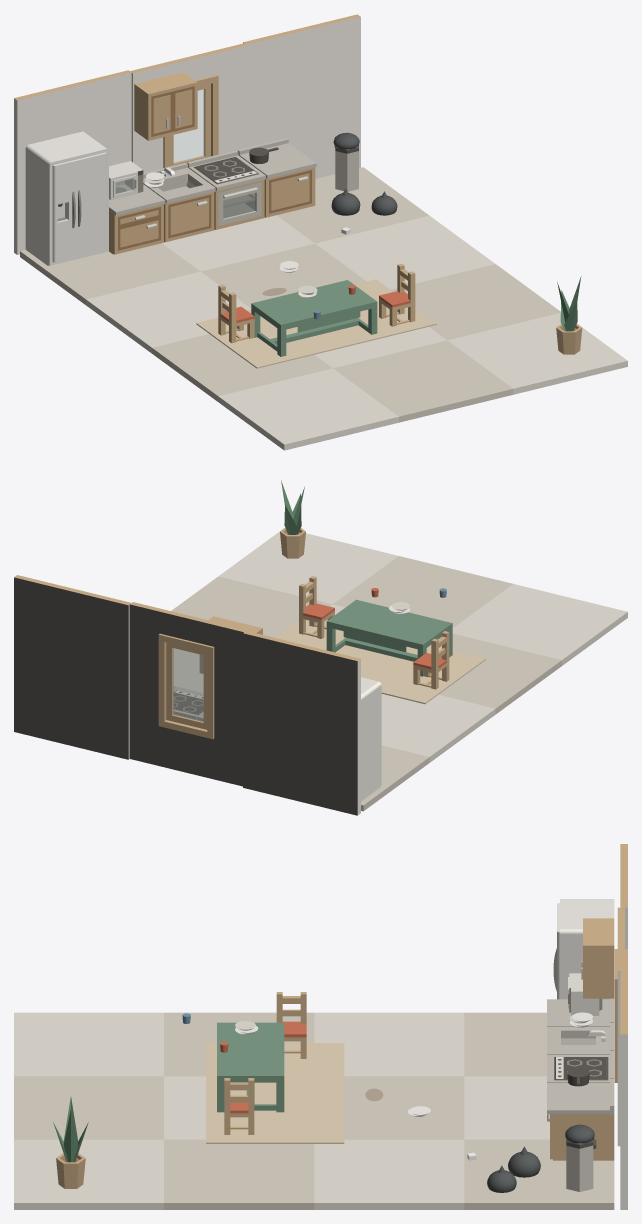
Rendered from room-kitchen.glb.
3 renders of one model, top to bottom at view 1: azimuth 30°, elevation 25°; view 2: azimuth 150°, elevation 25°; view 3: azimuth 270°, elevation 25°, orthographic. The views are drawn at different scales.
Parts seen in each view (by area): view 1: floorFull(Clone) (×12), Mesh_wall_1 (×2), Mesh_wallWindow_2, kitchenFridgeLarge(Clone), Mesh_rugRectangle, Mesh_doorRight_1, Mesh_door (×3), Mesh_tableCloth, Mesh_tableCloth_1, Mesh_doorLeft, Mesh_chairCushion (×2), kitchenCabinetUpperDouble(Clone) (+21 smaller); view 2: floorFull(Clone) (×8), Mesh_wall_2 (×2), Mesh_wallWindow_1, Mesh_rugRectangle, Mesh_wallWindow, Mesh_tableCloth_1, Mesh_tableCloth, kitchenFridgeLarge(Clone), Mesh_chairCushion (×2), Mesh_window, Mesh_window_1, Mesh_pottedPlant (+4 smaller); view 3: floorFull(Clone) (×12), Mesh_rugRectangle, kitchenCabinetUpperDouble(Clone), kitchenFridgeLarge(Clone), Mesh_tableCloth, Mesh_tableCloth_1, Mesh_chairCushion (×2), Mesh_kitchenCabinet, Mesh_kitchenCabinet_1, Mesh_kitchenSink_1, Mesh_wall_1, Mesh_rugRectangle_1 (+13 smaller).
Part boxes in pixels (box(x1,y1,x2,y2)): floorFull(Clone) (×12): box(20, 167, 627, 450); Mesh_wall_1 (×2): box(14, 17, 360, 254); Mesh_wallWindow_2: box(131, 45, 247, 172); kitchenFridgeLarge(Clone): box(25, 131, 108, 265); Mesh_rugRectangle: box(196, 279, 436, 368); Mesh_doorRight_1: box(75, 152, 106, 257); Mesh_door (×3): box(120, 173, 309, 247); Mesh_tableCloth: box(251, 280, 377, 356); Mesh_tableCloth_1: box(268, 284, 360, 332); Mesh_doorLeft: box(52, 160, 75, 262); Mesh_chairCushion (×2): box(218, 263, 415, 343); kitchenCabinetUpperDouble(Clone): box(134, 72, 197, 140); floorFull(Clone) (×8): box(171, 530, 627, 811); Mesh_wall_2 (×2): box(14, 577, 357, 815); Mesh_wallWindow_1: box(129, 604, 243, 786); Mesh_rugRectangle: box(275, 620, 485, 704); Mesh_wallWindow: box(130, 602, 246, 739); Mesh_tableCloth_1: box(343, 604, 435, 651); Mesh_tableCloth: box(326, 599, 452, 676); kitchenFridgeLarge(Clone): box(361, 677, 381, 801); Mesh_chairCushion (×2): box(299, 576, 449, 689); Mesh_window: box(173, 648, 203, 721); Mesh_window_1: box(166, 642, 207, 729); Mesh_pottedPlant: box(280, 527, 305, 558); floorFull(Clone) (×12): box(14, 1012, 614, 1209); Mesh_rugRectangle: box(206, 1043, 344, 1143); kitchenCabinetUpperDouble(Clone): box(583, 918, 614, 998); kitchenFridgeLarge(Clone): box(560, 899, 614, 999); Mesh_tableCloth: box(217, 1022, 284, 1112); Mesh_tableCloth_1: box(217, 1032, 284, 1066); Mesh_chairCushion (×2): box(224, 992, 306, 1134); Mesh_kitchenCabinet: box(547, 1079, 614, 1114); Mesh_kitchenCabinet_1: box(550, 1114, 614, 1160); Mesh_kitchenSink_1: box(547, 1023, 614, 1054); Mesh_wall_1: box(620, 1034, 627, 1209); Mesh_rugRectangle_1: box(223, 1050, 327, 1135).
Size of the model in its own units: 3 by 1.29 by 4.09.
